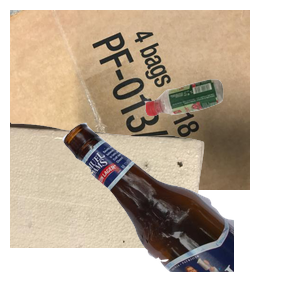cardboard: (10, 10, 250, 190)
glass: (60, 120, 300, 300)
plastic: (142, 77, 300, 186)
trash: (10, 120, 207, 300)
